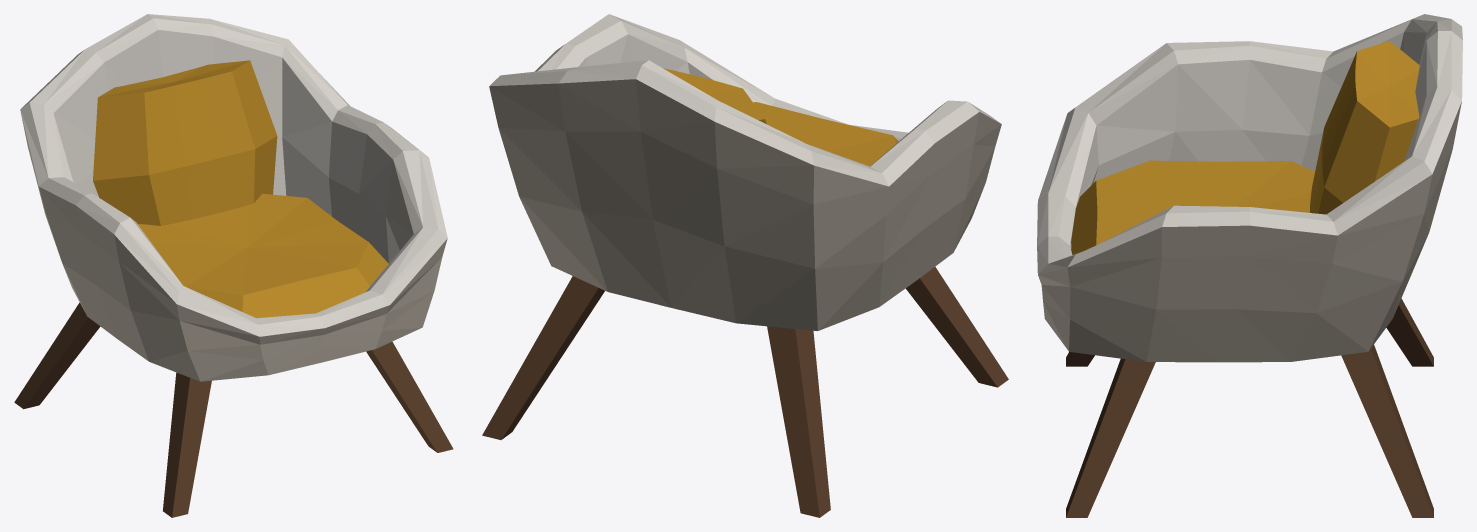
The model's file is lounge-armchair-5a72ca.glb.
3 renders of one model, left to right at view 1: azimuth 30°, elevation 25°; view 2: azimuth 150°, elevation 25°; view 3: azimuth 270°, elevation 25°, orthographic. The views are drawn at different scales.
Visible parts, largest first — view 1: shell, back-cushion-mesh, seat-pad-mesh; view 2: shell, seat-pad-mesh, back-cushion-mesh; view 3: shell, seat-pad-mesh, back-cushion-mesh.
Boxes of the visible parts, box(x1,y1,x2,y2) form: shell: box(14, 14, 453, 517); back-cushion-mesh: box(93, 60, 277, 225); seat-pad-mesh: box(138, 193, 388, 318); shell: box(482, 14, 1008, 517); seat-pad-mesh: box(753, 102, 898, 166); back-cushion-mesh: box(663, 68, 766, 124); shell: box(1037, 14, 1462, 517); seat-pad-mesh: box(1071, 160, 1314, 254); back-cushion-mesh: box(1310, 41, 1419, 214).
Size of the model in its own units: 0.75 by 0.79 by 0.75.
